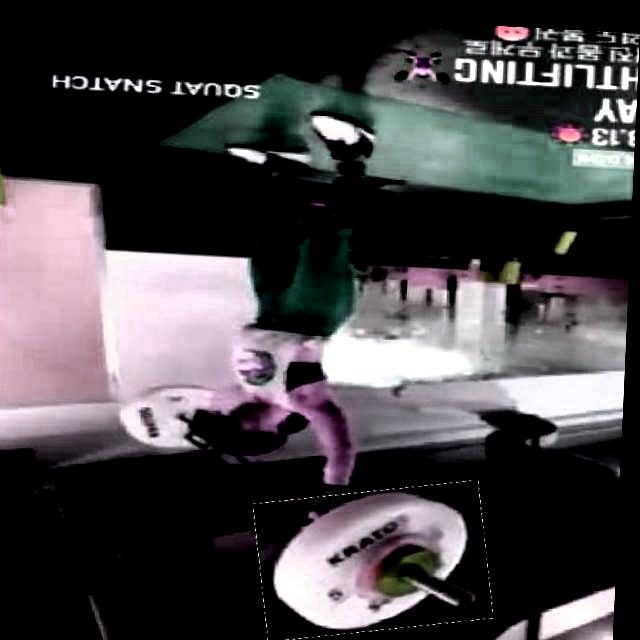barbell: (258, 475, 499, 639)
